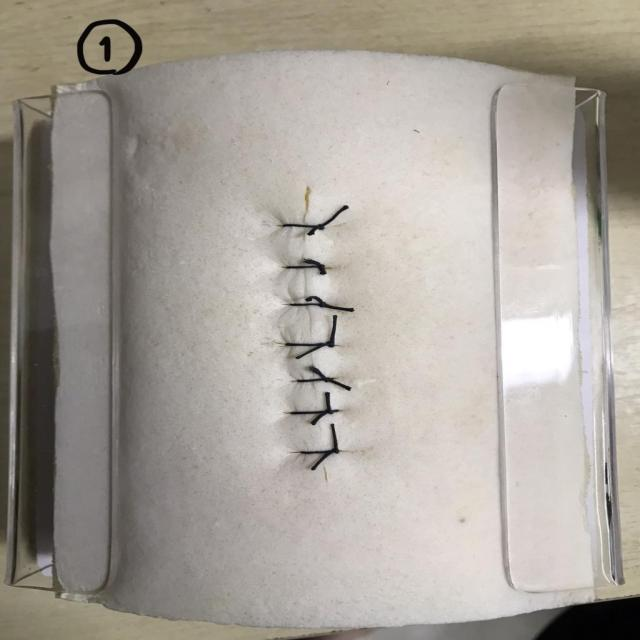knot: (318, 302, 328, 308), (317, 224, 325, 230), (327, 341, 334, 347), (318, 265, 325, 271), (324, 378, 332, 383), (332, 449, 339, 454), (326, 410, 333, 414)
leftover: (318, 203, 351, 229), (292, 341, 334, 361), (308, 448, 338, 472), (306, 364, 331, 382), (325, 377, 354, 392), (308, 409, 330, 426), (299, 257, 326, 270), (302, 294, 328, 307), (321, 303, 357, 312), (329, 312, 338, 346), (329, 422, 338, 453), (306, 224, 323, 238), (325, 389, 330, 414), (319, 265, 327, 278)
stitch: (287, 408, 341, 415), (282, 341, 337, 347), (296, 448, 343, 455), (292, 376, 336, 383), (280, 223, 327, 229), (282, 265, 327, 270), (286, 302, 329, 307)
wound: (299, 185, 330, 488)
